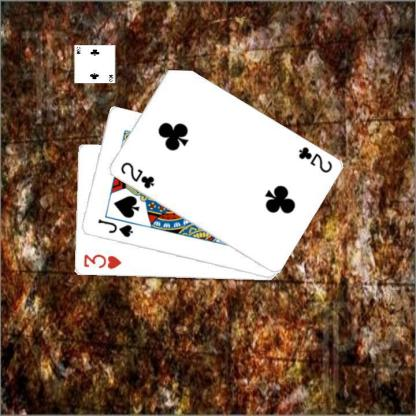2C: (118, 160, 156, 190), (296, 144, 334, 174)
3H: (81, 252, 122, 270)
JS: (95, 216, 134, 238)
